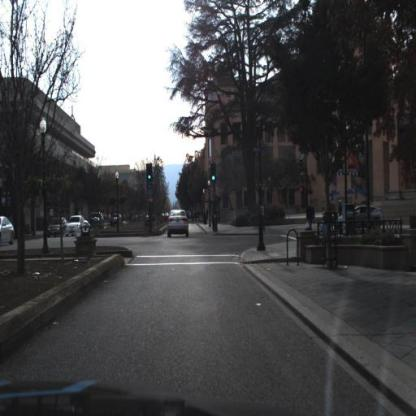biker: (338, 199, 344, 213)
car: (337, 203, 384, 229), (167, 209, 191, 240), (65, 215, 88, 238), (1, 214, 16, 249), (46, 217, 69, 238), (89, 211, 106, 235)
pedestrian: (306, 198, 318, 235)
trafficLight-Green: (146, 165, 153, 185), (212, 165, 217, 186)
